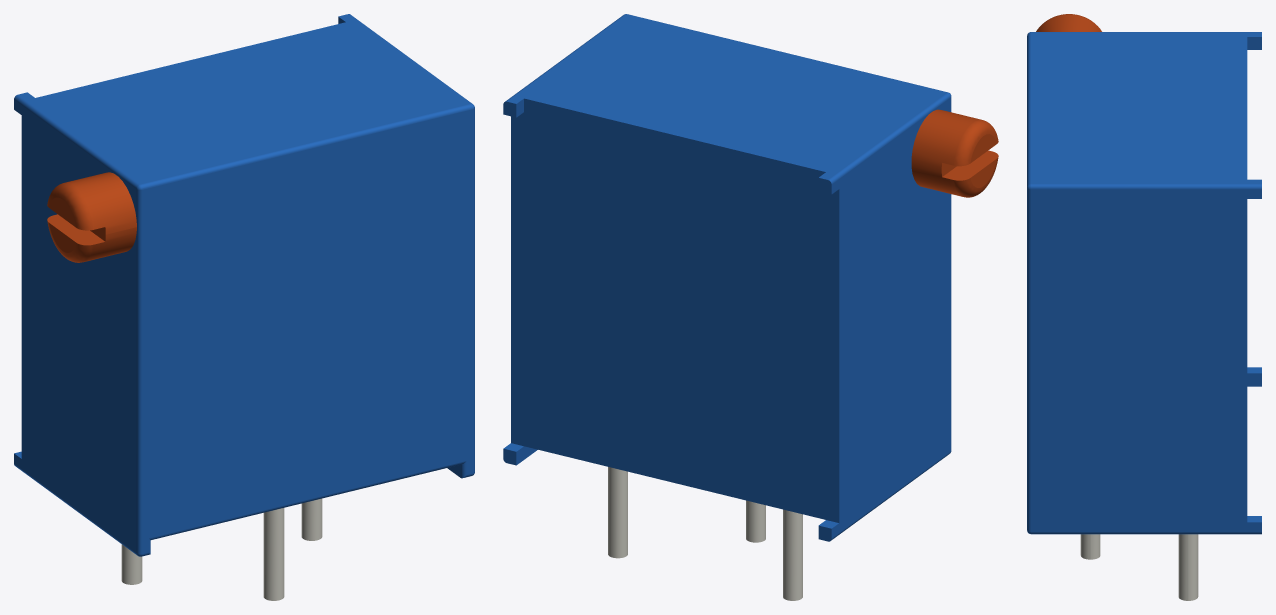
File: kc-potentiometer_bourns_3299z_horizontal.glb
3 views of the same model, side by side, from view 1: azimuth 30°, elevation 25°; view 2: azimuth 150°, elevation 25°; view 3: azimuth 270°, elevation 25° (orthographic). The views are drawn at different scales.
Visible parts, largest first — view 1: 0_0.16666666666666666_0.5_0, 0.4166666666666667_0.08333333333333333_0_0, 0.6666666666666666_0.6666666666666666_0.5833333333333334_0.8; view 2: 0_0.16666666666666666_0.5_0, 0.4166666666666667_0.08333333333333333_0_0, 0.6666666666666666_0.6666666666666666_0.5833333333333334_0.8; view 3: 0_0.16666666666666666_0.5_0, 0.6666666666666666_0.6666666666666666_0.5833333333333334_0.8, 0.4166666666666667_0.08333333333333333_0_0.
Part boxes in pixels (<box>): 0_0.16666666666666666_0.5_0: <box>14,14,474,556</box>; 0.4166666666666667_0.08333333333333333_0_0: <box>47,172,136,262</box>; 0.6666666666666666_0.6666666666666666_0.5833333333333334_0.8: <box>121,498,322,600</box>; 0_0.16666666666666666_0.5_0: <box>503,14,951,541</box>; 0.4166666666666667_0.08333333333333333_0_0: <box>911,109,998,197</box>; 0.6666666666666666_0.6666666666666666_0.5833333333333334_0.8: <box>608,467,802,600</box>; 0_0.16666666666666666_0.5_0: <box>1027,32,1261,534</box>; 0.6666666666666666_0.6666666666666666_0.5833333333333334_0.8: <box>1080,534,1198,600</box>; 0.4166666666666667_0.08333333333333333_0_0: <box>1036,14,1101,31</box>.
Bounding box in the file's own units: 1.11 × 1.28 × 0.6101.
